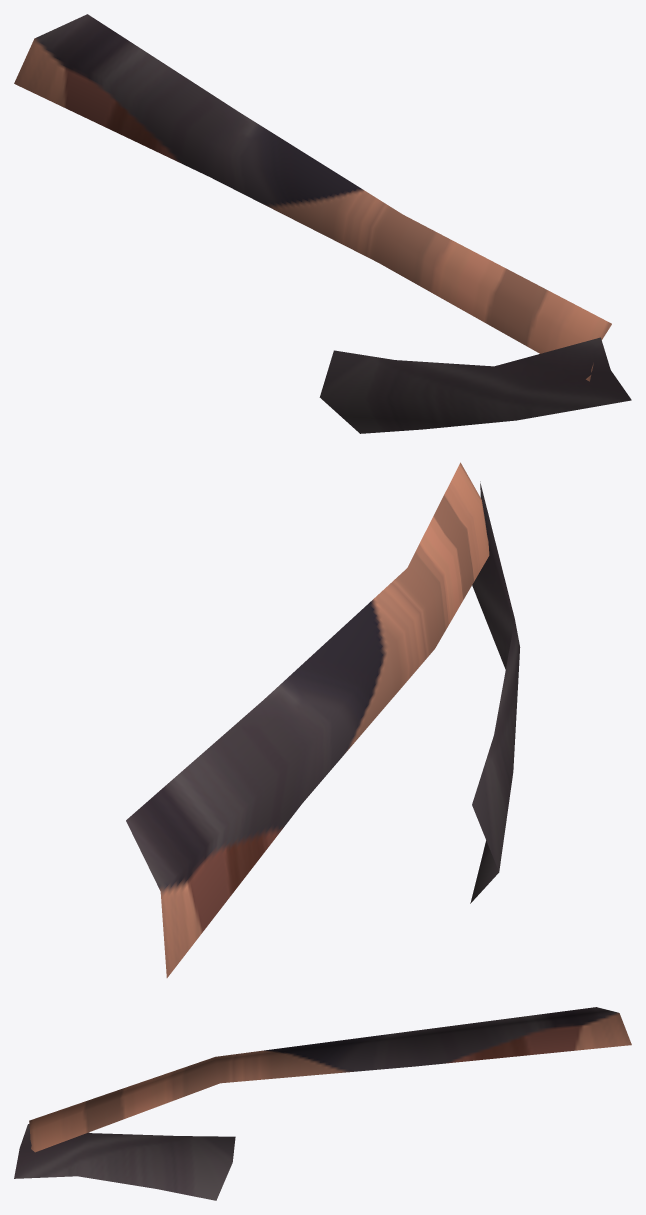
Rendered from suit_reinforced_ribbon_shoulder_R.FBX.
3 views of the same model, one above another, from view 1: azimuth 30°, elevation 25°; view 2: azimuth 150°, elevation 25°; view 3: azimuth 270°, elevation 25° (orthographic). The views are drawn at different scales.
Visible parts, largest first — view 1: Reinforced_ribbon_shoulder_R; view 2: Reinforced_ribbon_shoulder_R; view 3: Reinforced_ribbon_shoulder_R.
Part boxes in pixels (x1,y1,x2,y2): Reinforced_ribbon_shoulder_R: (14,14,631,433); Reinforced_ribbon_shoulder_R: (126,462,520,977); Reinforced_ribbon_shoulder_R: (14,1007,631,1200).
Bounding box in the file's own units: 7.95 × 8.69 × 26.27.
